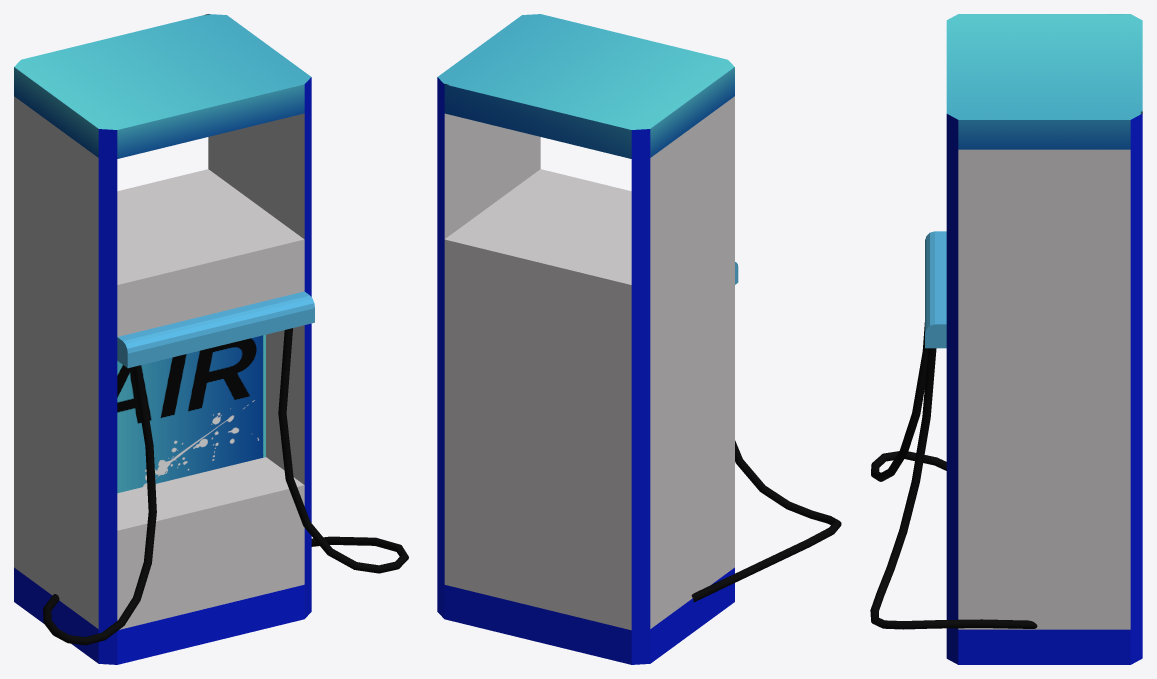
File: air.fbx
3 views of the same model, side by side, from view 1: azimuth 30°, elevation 25°; view 2: azimuth 150°, elevation 25°; view 3: azimuth 270°, elevation 25° (orthographic).
Visible parts, largest first — view 1: Kolonka, blue, black, AIR, Shlang, red; view 2: Kolonka, blue, black, Shlang; view 3: Kolonka, blue, black, Shlang, red.
Boxes of the visible parts, x1,y1,x2,y2 form: Kolonka: (14,96,304,629); blue: (14,14,310,158); black: (14,77,311,664); AIR: (117,334,265,493); Shlang: (43,328,408,645); red: (117,291,314,368); Kolonka: (444,96,734,630); blue: (438,14,734,158); black: (437,77,734,664); Shlang: (691,440,841,602); Kolonka: (958,149,1130,629); blue: (946,14,1142,149); black: (946,113,1142,664); Shlang: (870,322,1037,629); red: (925,231,946,348).
Bounding box in the file's own units: 95.94 × 140 × 63.31.
